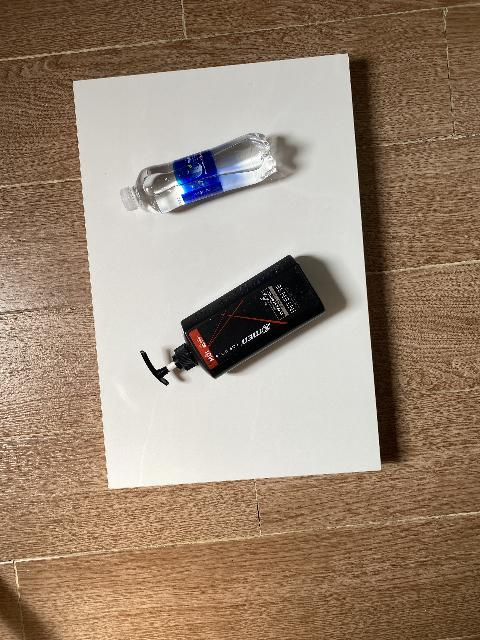aquafina: (139, 255, 326, 386), (120, 132, 275, 214)
